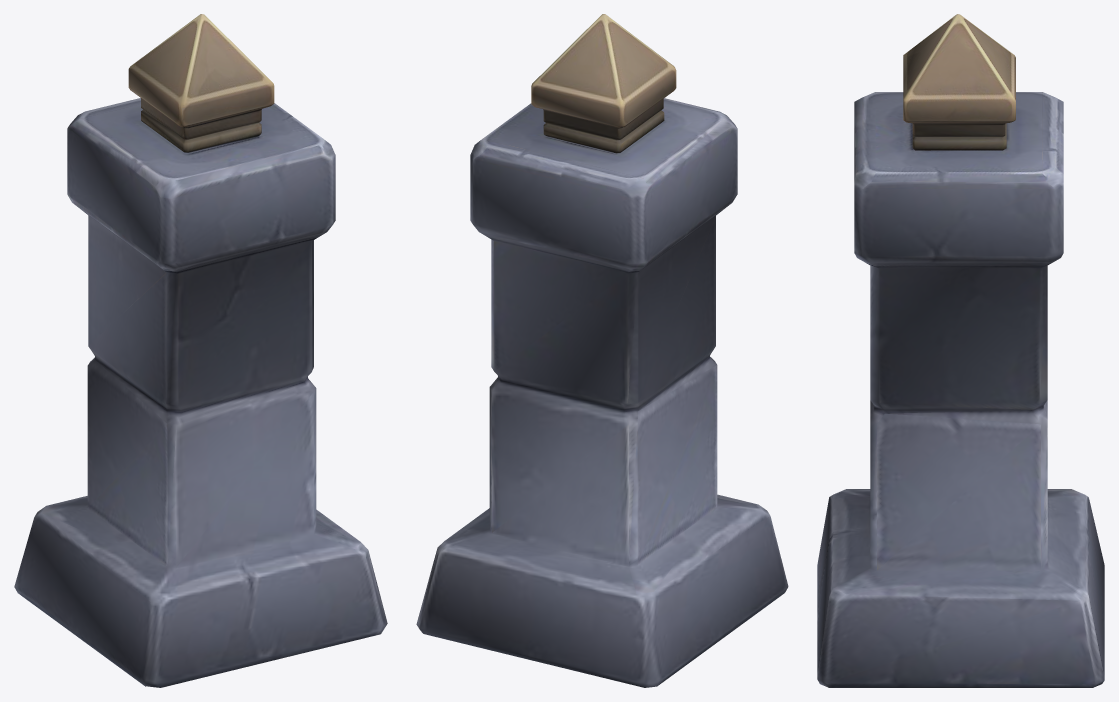
The model's file is stone_pillar.glb.
3 renders of one model, left to right at view 1: azimuth 30°, elevation 25°; view 2: azimuth 150°, elevation 25°; view 3: azimuth 270°, elevation 25°, orthographic. The views are drawn at different scales.
Parts seen in each view (by area): view 1: tripo_node_f04b65f3-9f06-4031-b48d-ffebf500fc4d; view 2: tripo_node_f04b65f3-9f06-4031-b48d-ffebf500fc4d; view 3: tripo_node_f04b65f3-9f06-4031-b48d-ffebf500fc4d.
Boxes of the visible parts, x1,y1,x2,y2 form: tripo_node_f04b65f3-9f06-4031-b48d-ffebf500fc4d: (14,14,387,687); tripo_node_f04b65f3-9f06-4031-b48d-ffebf500fc4d: (416,14,788,687); tripo_node_f04b65f3-9f06-4031-b48d-ffebf500fc4d: (817,14,1104,687).
Size of the model in its own units: 0.4238 by 0.998 by 0.4238.
Materials: 1 (1 with a texture image).
